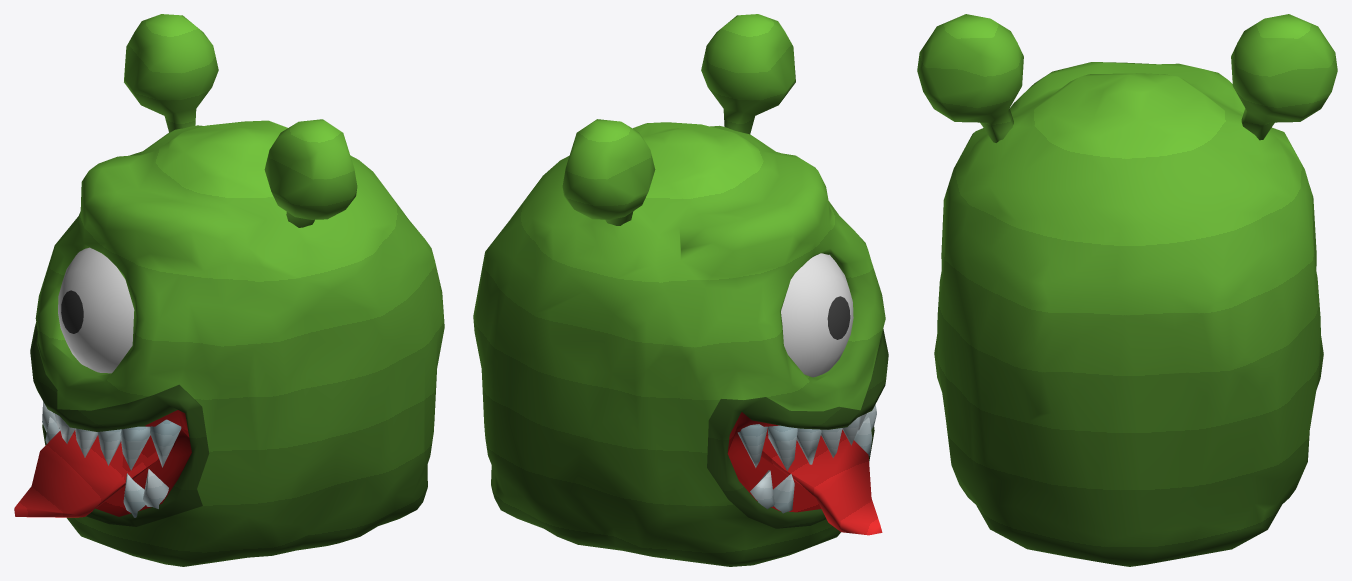
Rendered from alien.fbx.
3 renders of one model, left to right at view 1: azimuth 30°, elevation 25°; view 2: azimuth 150°, elevation 25°; view 3: azimuth 270°, elevation 25°, orthographic. The views are drawn at different scales.
Parts seen in each view (by area): view 1: Cylinder.003, Cylinder.011, Sphere.001; view 2: Cylinder.003, Cylinder.011, Sphere.001; view 3: Cylinder.003, Cylinder.011.
Boxes of the visible parts, bbox=[...] form: Cylinder.003: bbox=[14, 120, 444, 566]; Cylinder.011: bbox=[124, 14, 357, 227]; Sphere.001: bbox=[58, 247, 134, 373]; Cylinder.003: bbox=[473, 122, 888, 566]; Cylinder.011: bbox=[562, 14, 795, 225]; Sphere.001: bbox=[781, 253, 853, 377]; Cylinder.003: bbox=[934, 62, 1323, 566]; Cylinder.011: bbox=[917, 14, 1337, 142].
Size of the model in its own units: 227 by 246 by 200.
